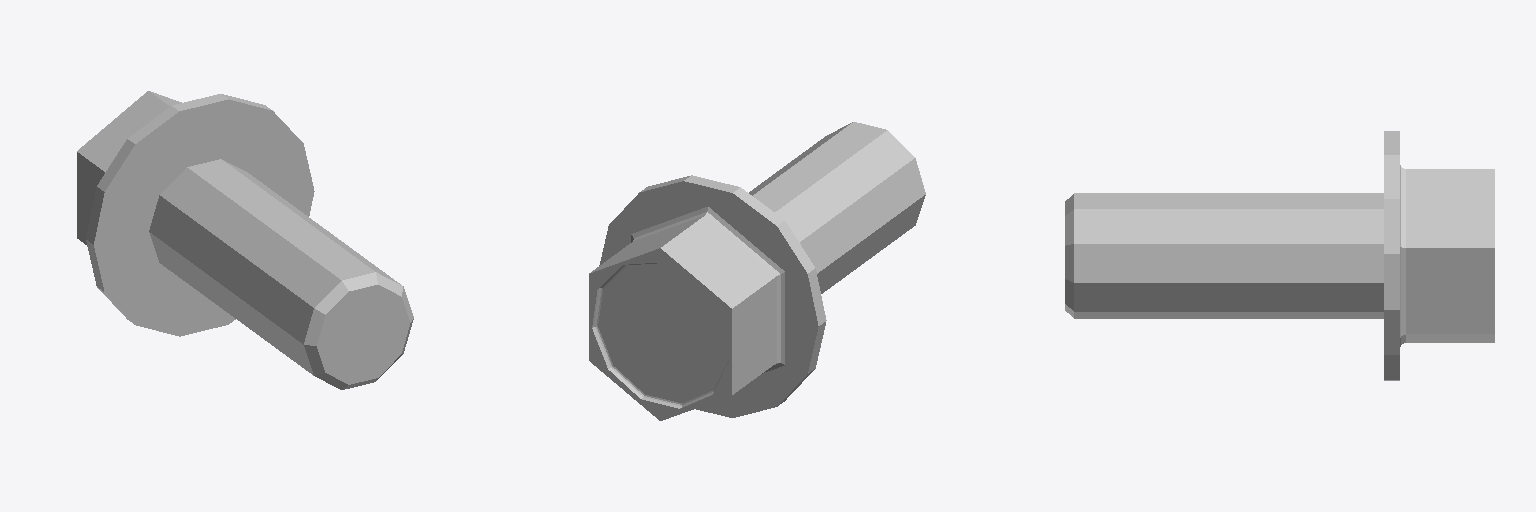
The model's file is Болт крепления приемника масляного насоса.obj.
The picture shows the model from 3 angles: view 1: azimuth 30°, elevation 25°; view 2: azimuth 150°, elevation 25°; view 3: azimuth 270°, elevation 25°; orthographic projection.
Visible parts, largest first — view 1: Болт_крепления_приемника_масляног; view 2: Болт_крепления_приемника_масляног; view 3: Болт_крепления_приемника_масляног.
Boxes of the visible parts, x1,y1,x2,y2 form: Болт_крепления_приемника_масляног: [77, 91, 413, 389]; Болт_крепления_приемника_масляног: [589, 122, 925, 420]; Болт_крепления_приемника_масляног: [1065, 131, 1494, 380].
Bounding box in the file's own units: 8 × 7.8 × 13.5.